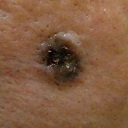Melanoma: (35, 36, 83, 85)
